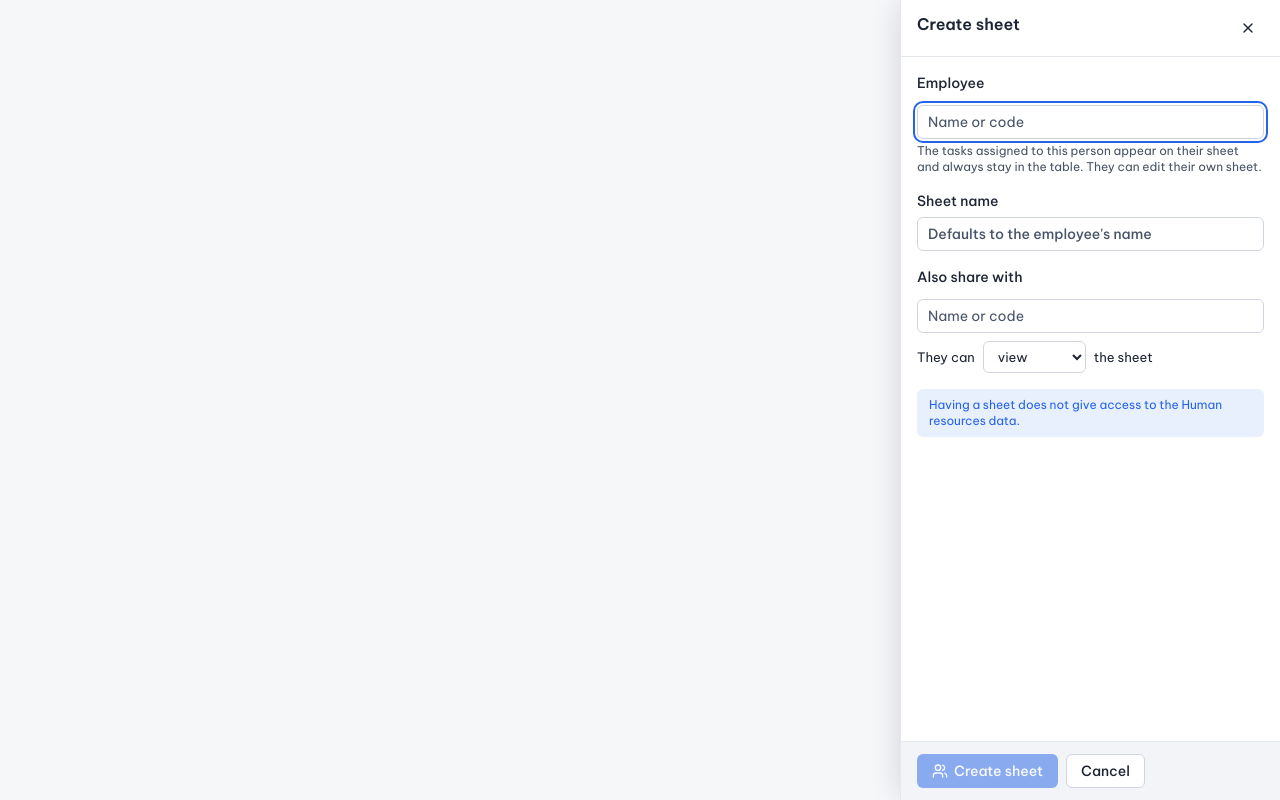
Test: CreateSheetDrawer › needs an employee before it can be sent
Expected: the button "Create sheet" is disabled, x1=917 y1=754 x2=1058 y2=788
Type "a" into the search field with placeholder "Name or code" below "Employee" at (1090, 122), box x1=917 y1=105 x2=1264 y2=139
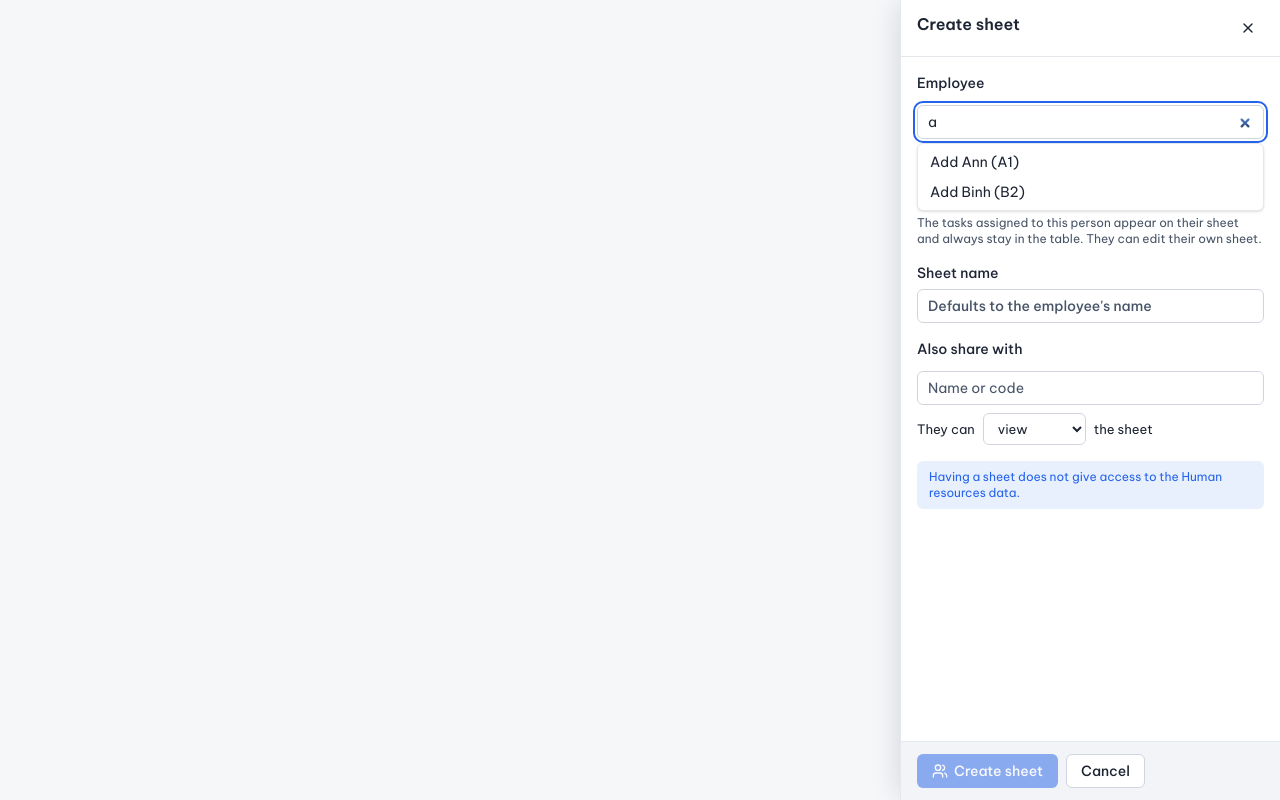
Click the button "Add Ann (A1)" at (946, 162), box x1=922 y1=148 x2=1259 y2=176
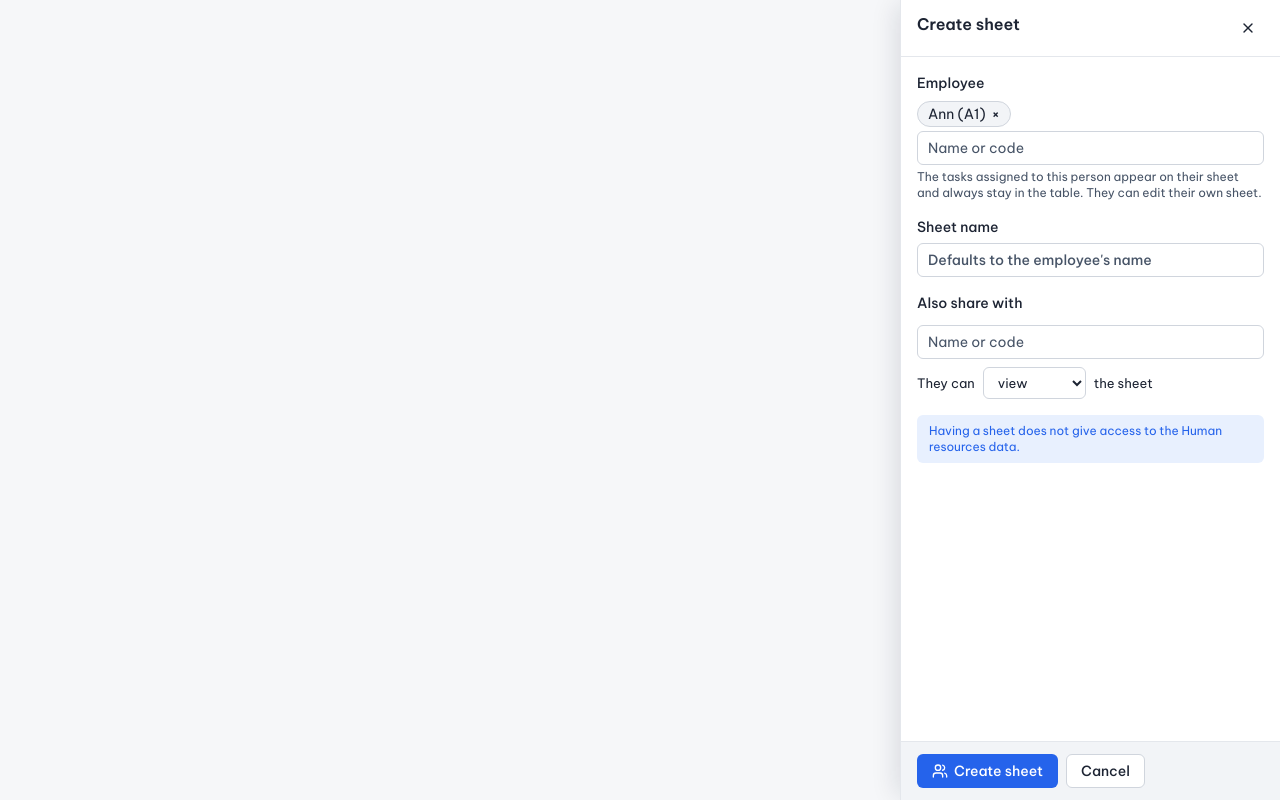
Now the button "Create sheet" is enabled, box x1=917 y1=754 x2=1058 y2=788
